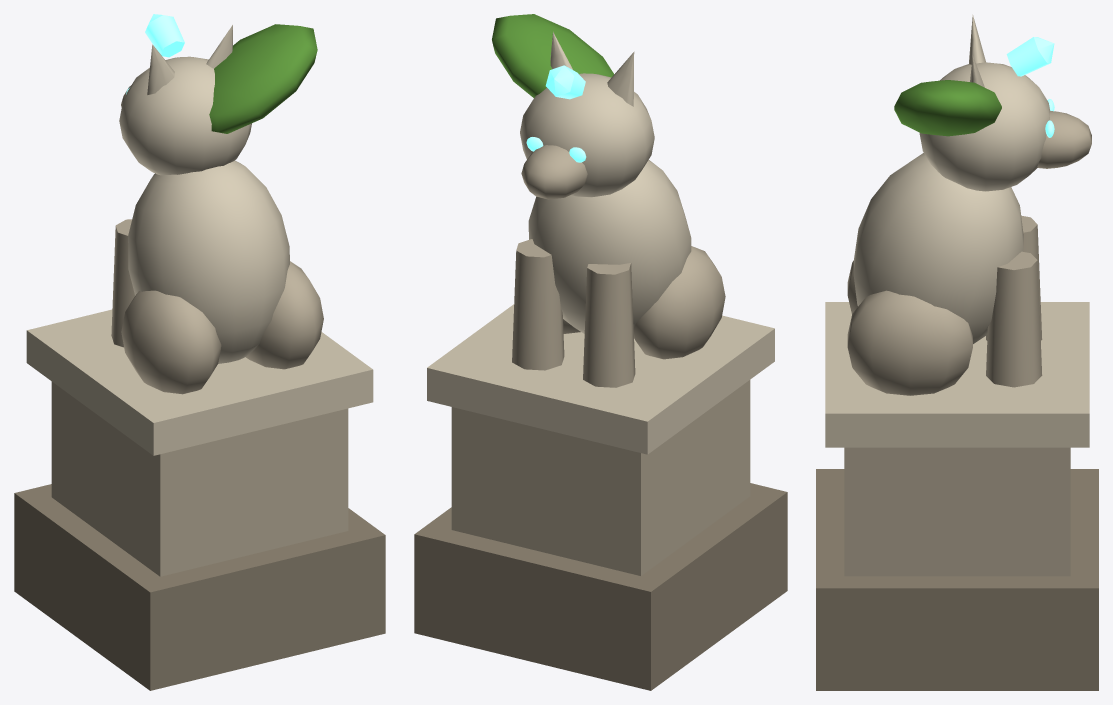
Rendered from CreatureStatue.glb.
3 views of the same model, side by side, from view 1: azimuth 30°, elevation 25°; view 2: azimuth 150°, elevation 25°; view 3: azimuth 270°, elevation 25° (orthographic). The views are drawn at different scales.
Parts seen in each view (by area): view 1: Body, Rune; view 2: Body, Rune; view 3: Body, Rune.
Part boxes in pixels (<box>): Body: <box>14,24,385,690</box>; Rune: <box>126,14,184,94</box>; Body: <box>414,14,787,690</box>; Rune: <box>526,65,586,162</box>; Body: <box>816,14,1098,690</box>; Rune: <box>1006,37,1054,137</box>.
Bounding box in the file's own units: 3 × 6.98 × 3.
Materials: 2 (1 with a texture image).
